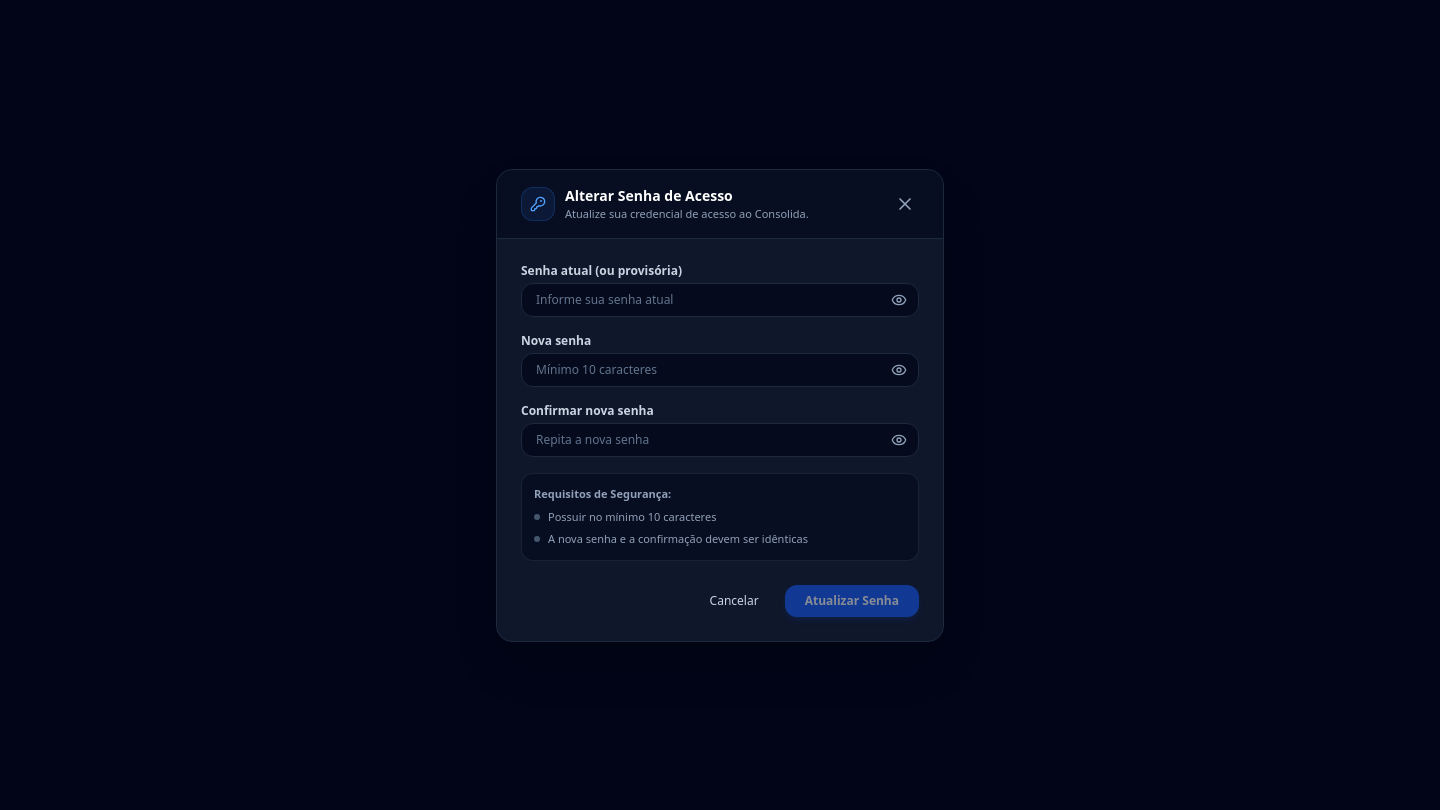
Test: Módulo de Alteração de Senha (SCRUM-12) › deve validar requisitos de mínimo de 10 caracteres e igualdade antes de habilitar o salvamento
Expected: the button "Atualizar Senha" is disabled, [785, 584, 919, 616]
Informa senha atual e nova senha menor que 10 caracteres (ex: "12345")
Type "senhaAtual123" into the password field with placeholder "Informe sua senha atual" at (720, 300), box [521, 283, 919, 317]
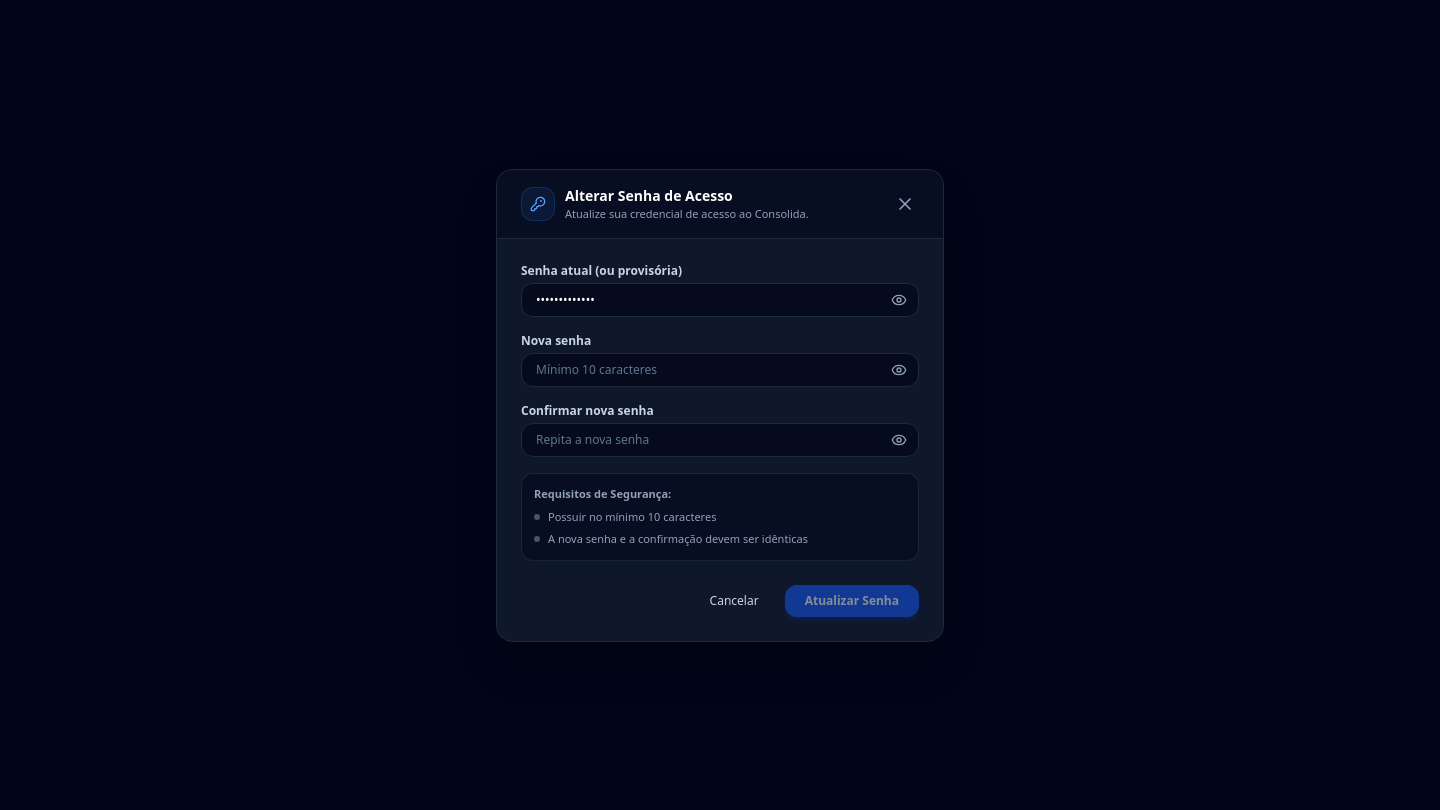
Type "curta" into the password field with placeholder "Mínimo 10 caracteres" at (720, 370), box [521, 353, 919, 387]
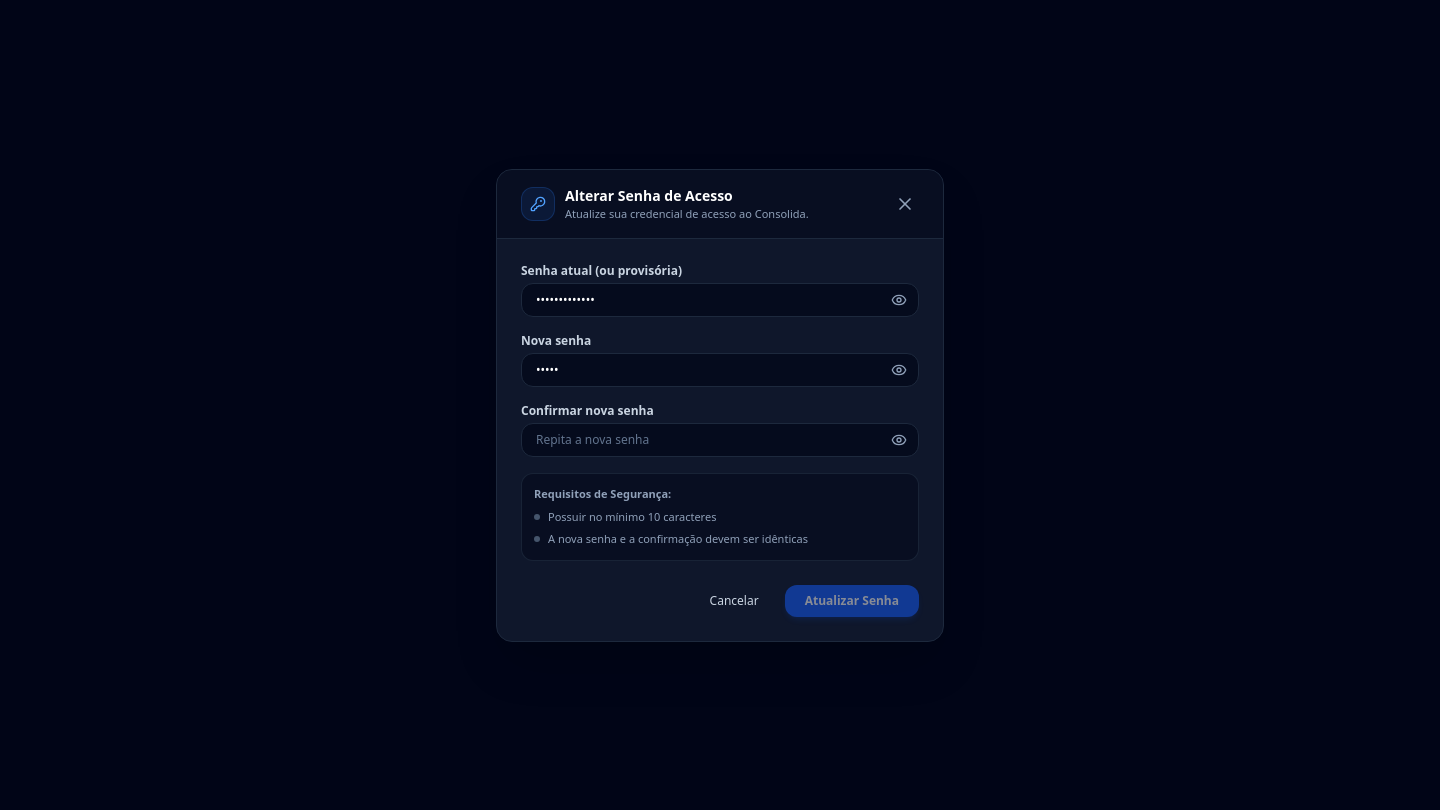
Type "curta" into the password field with placeholder "Repita a nova senha" at (720, 440), box [521, 423, 919, 457]
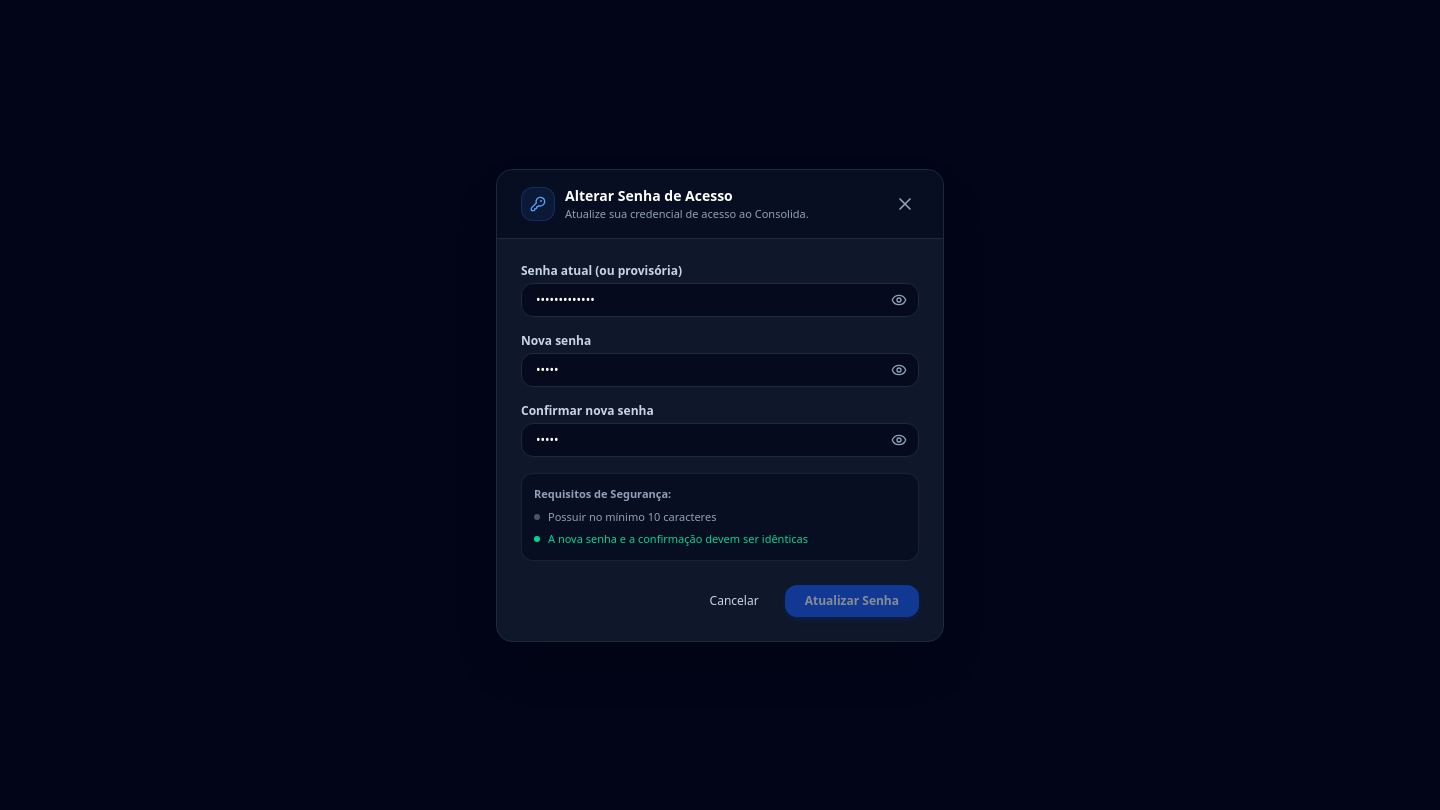
Expected: the button "Atualizar Senha" is disabled, [785, 584, 919, 616]
Type "NovaSenhaSegura123" into the password field with placeholder "Mínimo 10 caracteres" at (720, 370), box [521, 353, 919, 387]
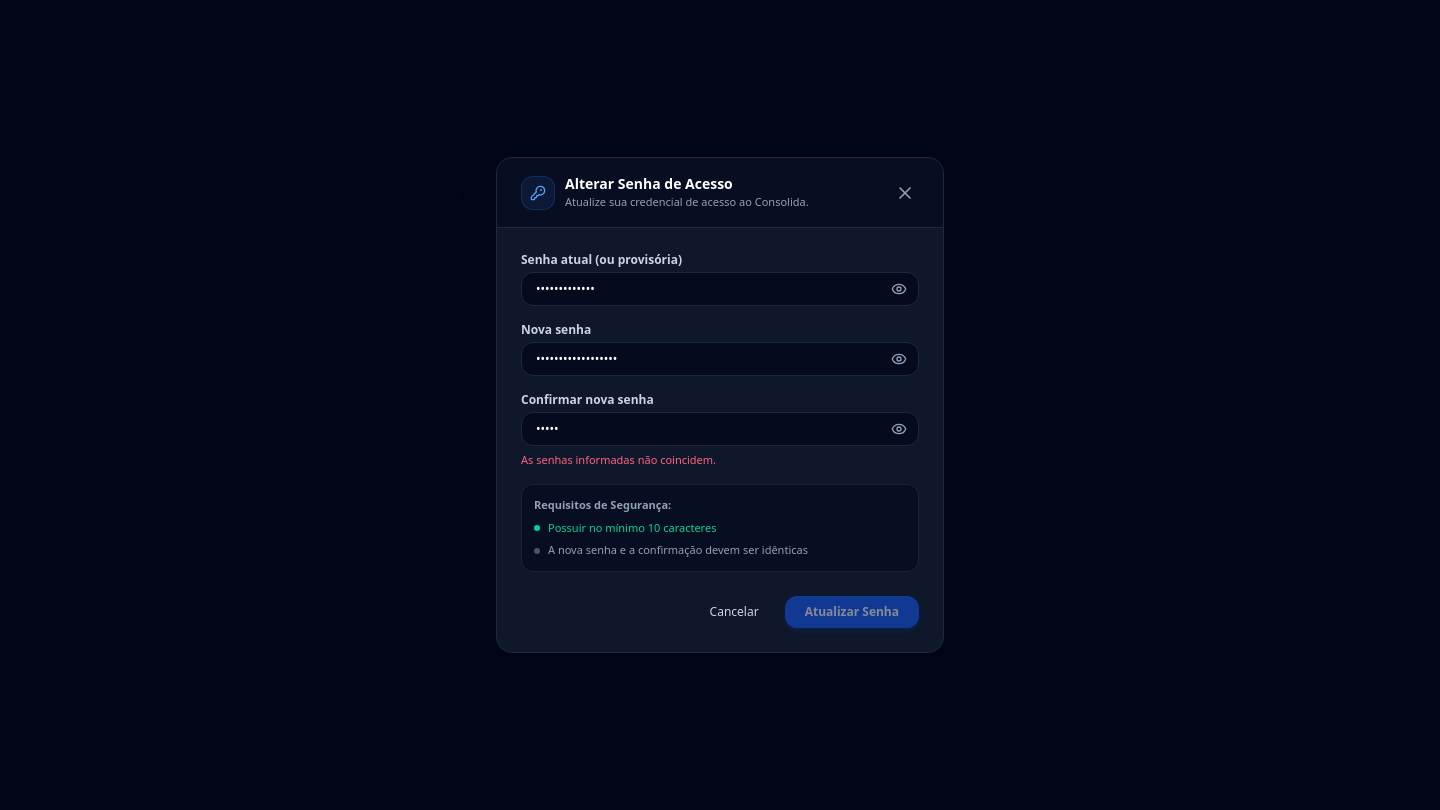
Type "Divergente123456" into the password field with placeholder "Repita a nova senha" at (720, 429), box [521, 412, 919, 446]
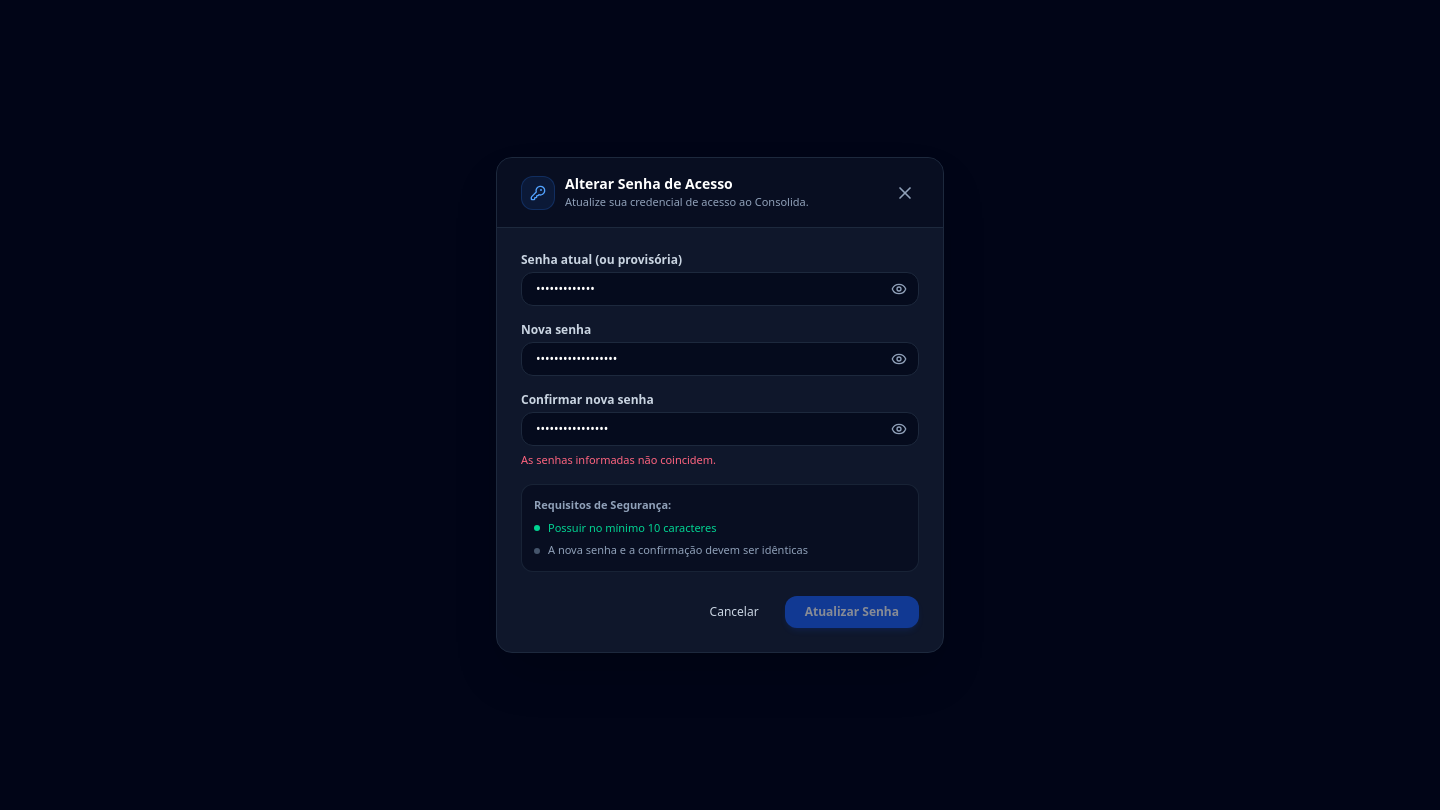
Expected: the button "Atualizar Senha" is disabled, [785, 596, 919, 628]
Expected: the text "As senhas informadas não coincidem." is shown, [521, 452, 716, 467]
Corrige confirmação para ser idêntica
Type "NovaSenhaSegura123" into the password field with placeholder "Repita a nova senha" at (720, 429), box [521, 412, 919, 446]
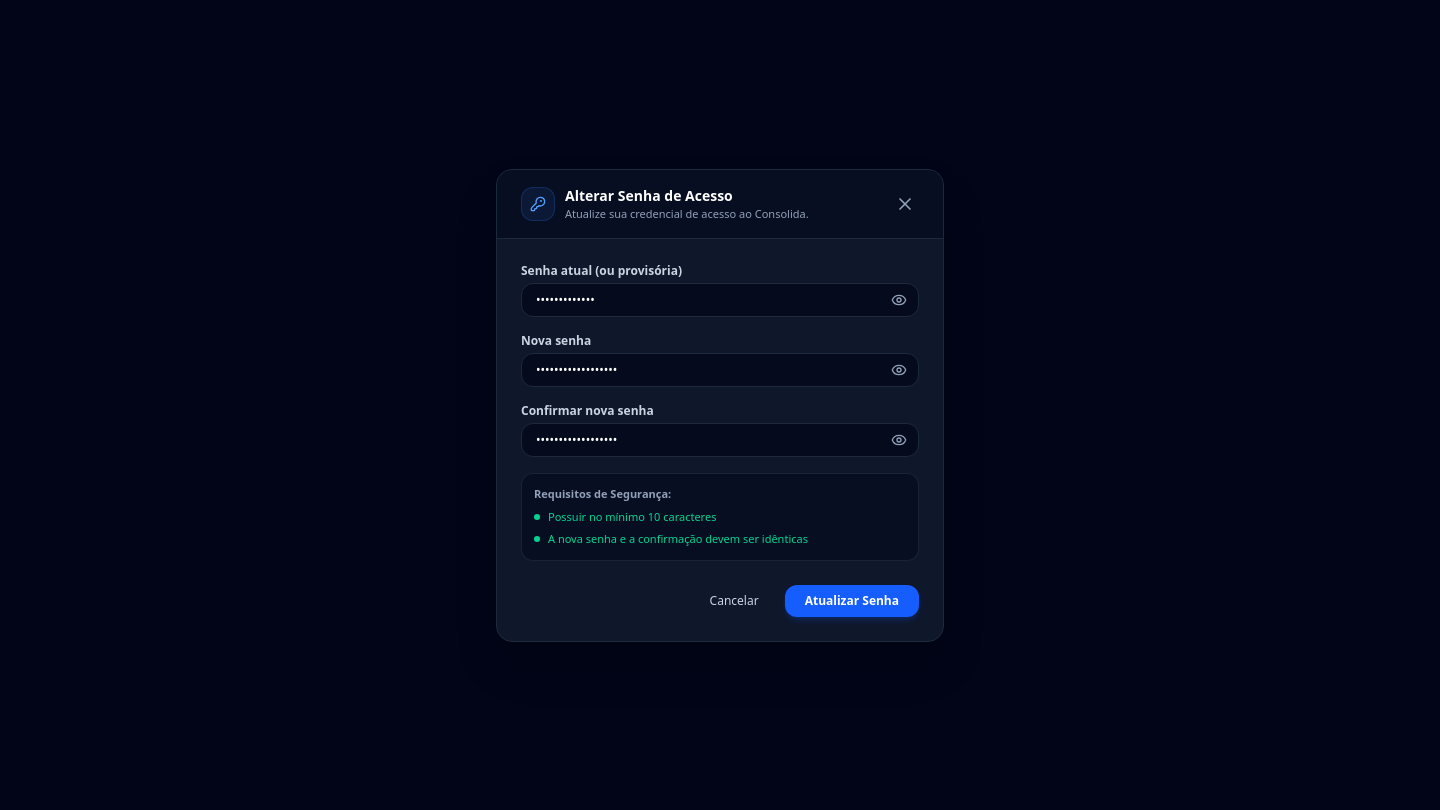
Expected: the button "Atualizar Senha" is enabled, [785, 584, 919, 616]
